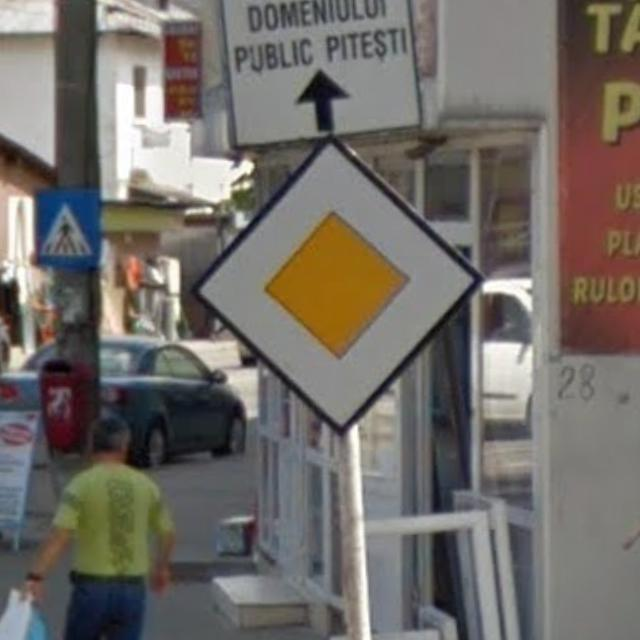info_crosswalk: (31, 188, 100, 267)
